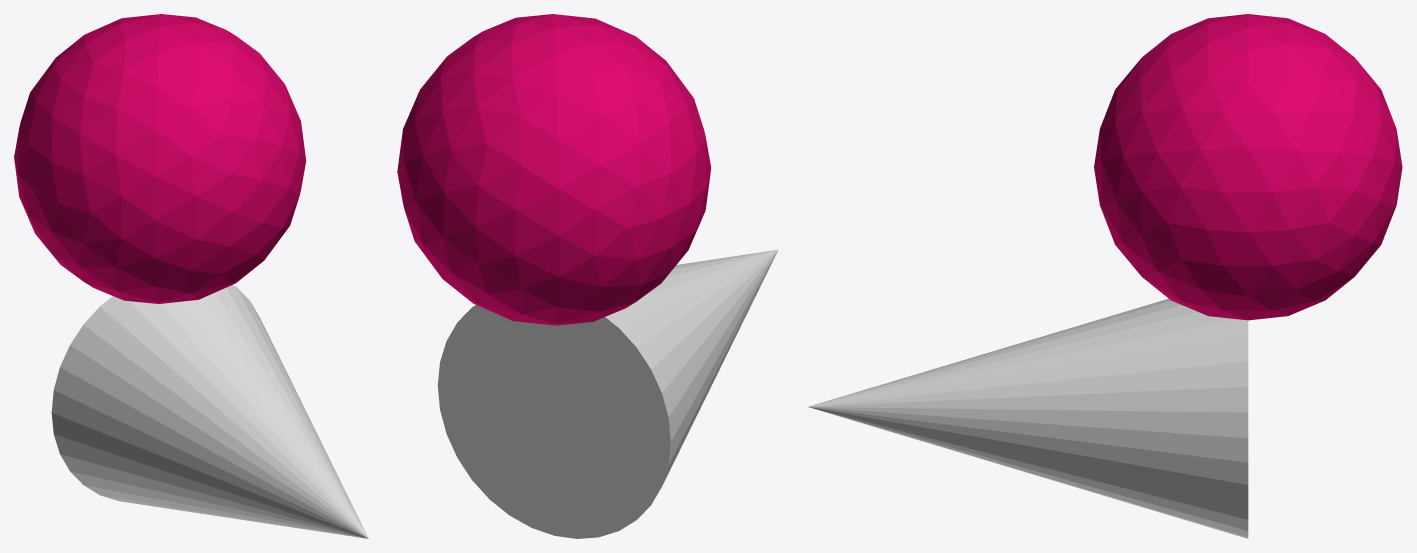
File: earring.glb
3 renders of one model, left to right at view 1: azimuth 30°, elevation 25°; view 2: azimuth 150°, elevation 25°; view 3: azimuth 270°, elevation 25°, orthographic. The views are drawn at different scales.
Visible parts, largest first — view 1: world; view 2: world; view 3: world.
Boxes of the visible parts, <box> form: world: <box>14,14,368,538</box>; world: <box>397,14,778,538</box>; world: <box>808,14,1402,538</box>.
Size of the model in its own units: 0.7 by 1.25 by 1.35.
